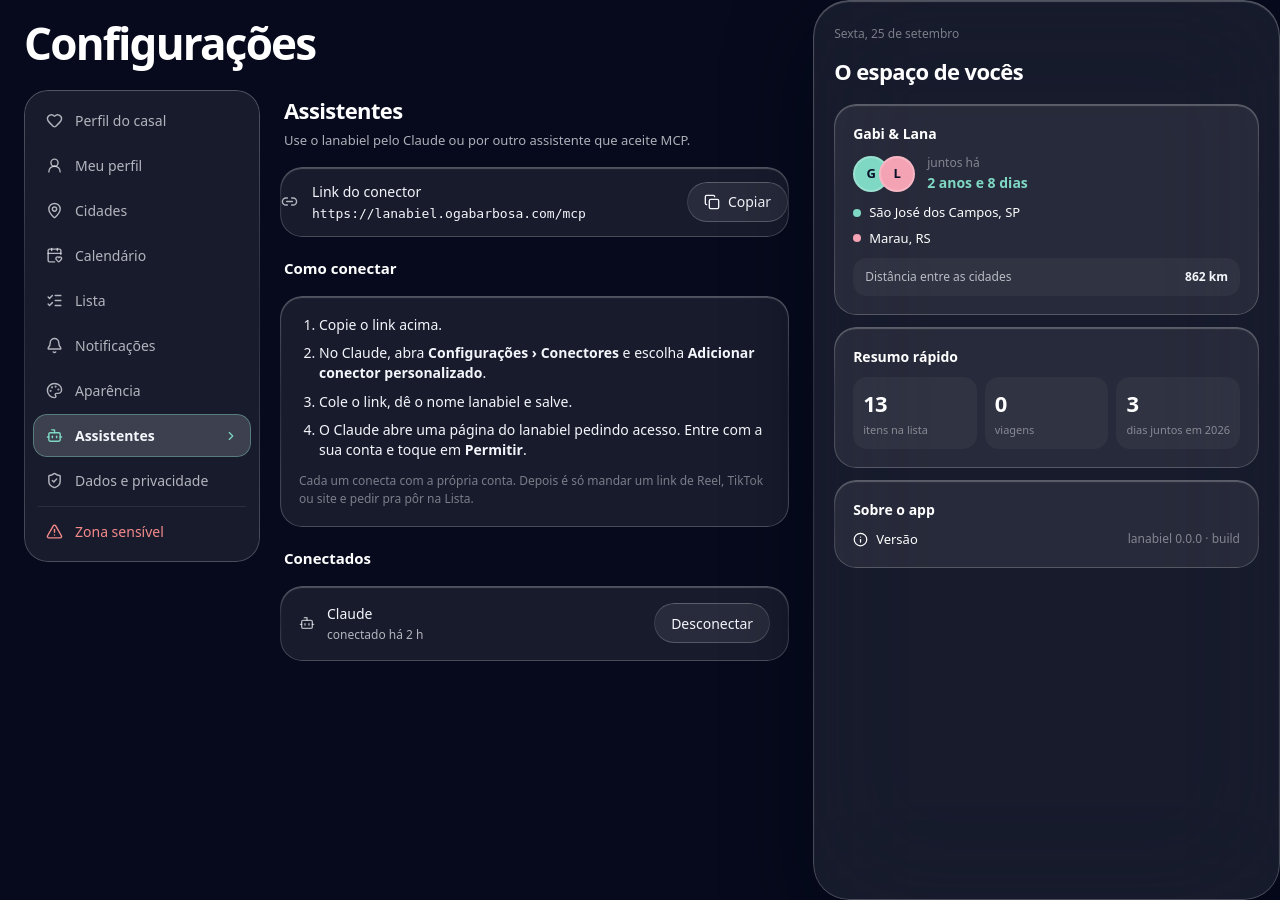
Test: Assistentes › lista os conectados e desconecta
Expected: the text "Claude" is shown, x1=327 y1=604 x2=372 y2=623
Expected: the text "conectado há 2 h" is shown, x1=327 y1=626 x2=424 y2=643
Click the button "Desconectar": {"x": 712, "y": 624} x1=654 y1=604 x2=770 y2=644
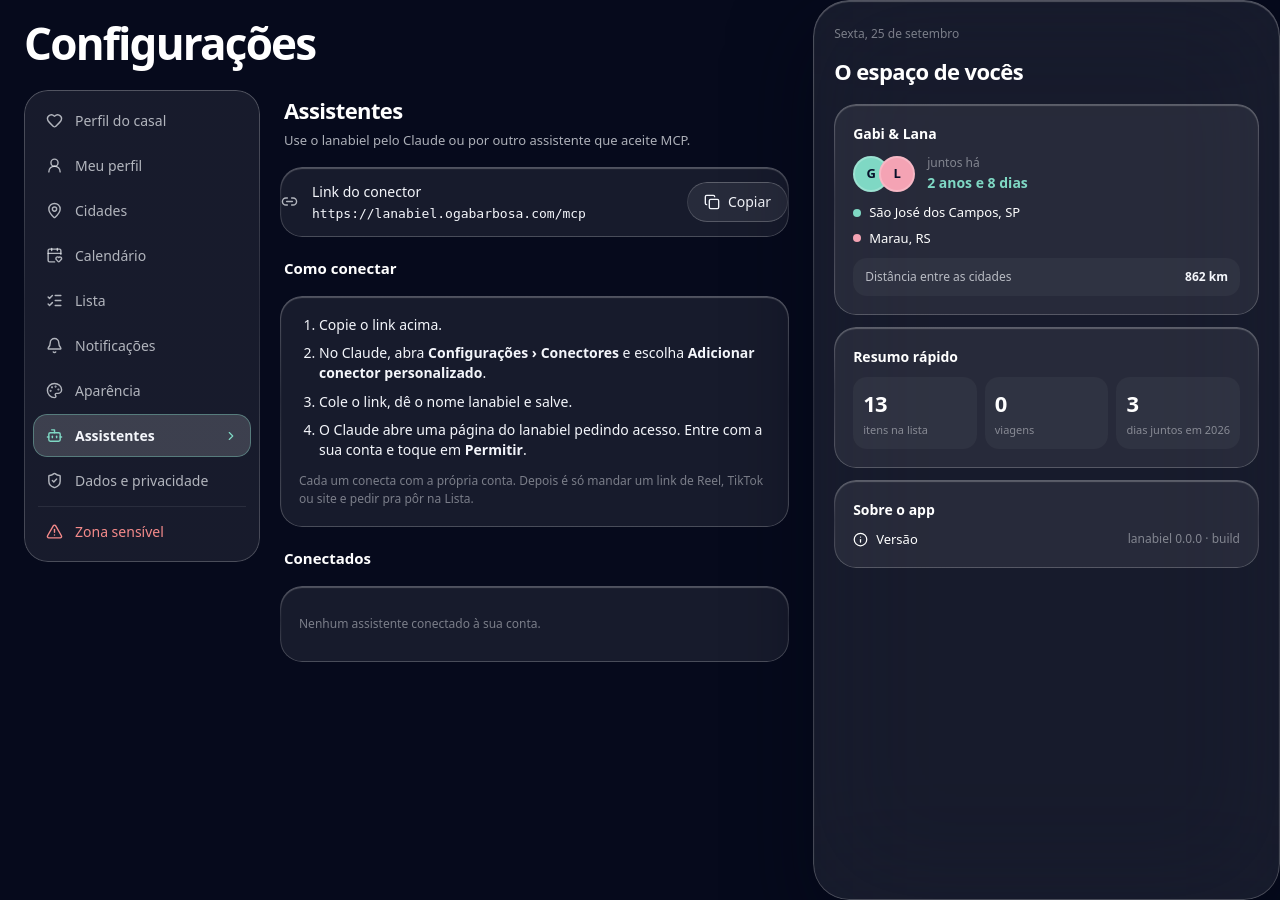
Expected: the text "Nenhum assistente conectado à sua conta." is shown, x1=299 y1=615 x2=541 y2=632
